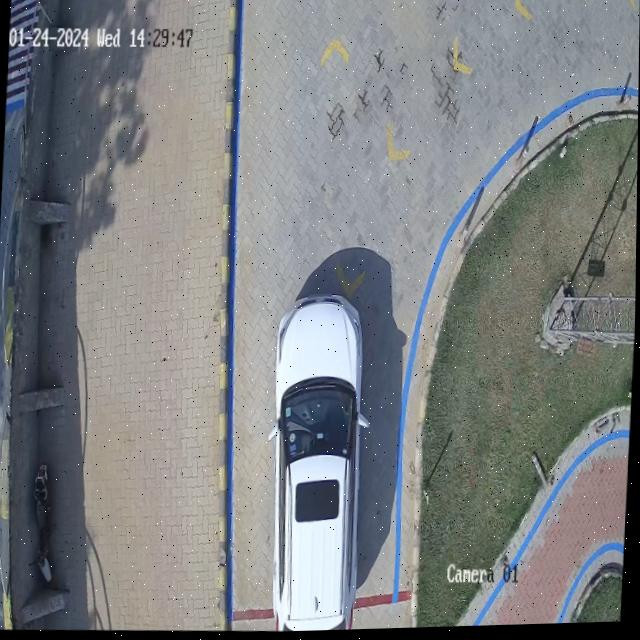car: (275, 299, 363, 632)
